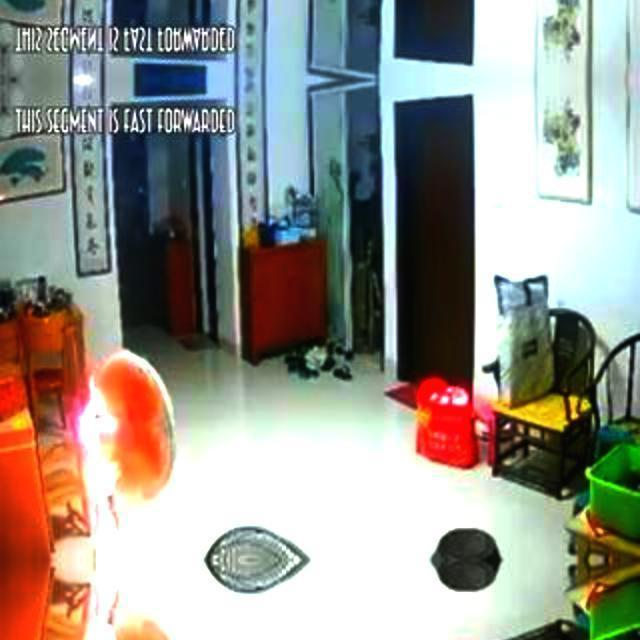smoke: (77, 377, 125, 557), (77, 563, 125, 640)
